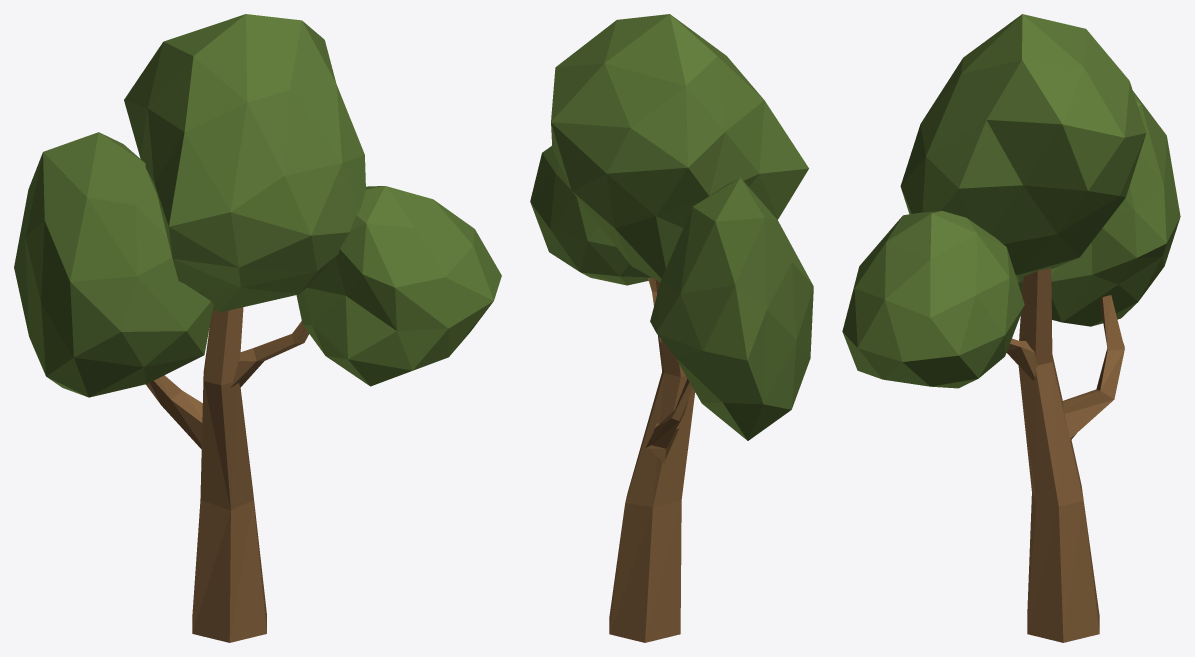
File: Tree_2_1.FBX
3 views of the same model, side by side, from view 1: azimuth 30°, elevation 25°; view 2: azimuth 150°, elevation 25°; view 3: azimuth 270°, elevation 25° (orthographic). The views are drawn at different scales.
Parts seen in each view (by area): view 1: Tree_2_1; view 2: Tree_2_1; view 3: Tree_2_1.
Boxes of the visible parts, bbox=[...] form: Tree_2_1: bbox=[14, 14, 501, 642]; Tree_2_1: bbox=[530, 14, 813, 642]; Tree_2_1: bbox=[842, 14, 1180, 642].
Bounding box in the file's own units: 103 × 169 × 85.3.
1 material, 1 textured.
